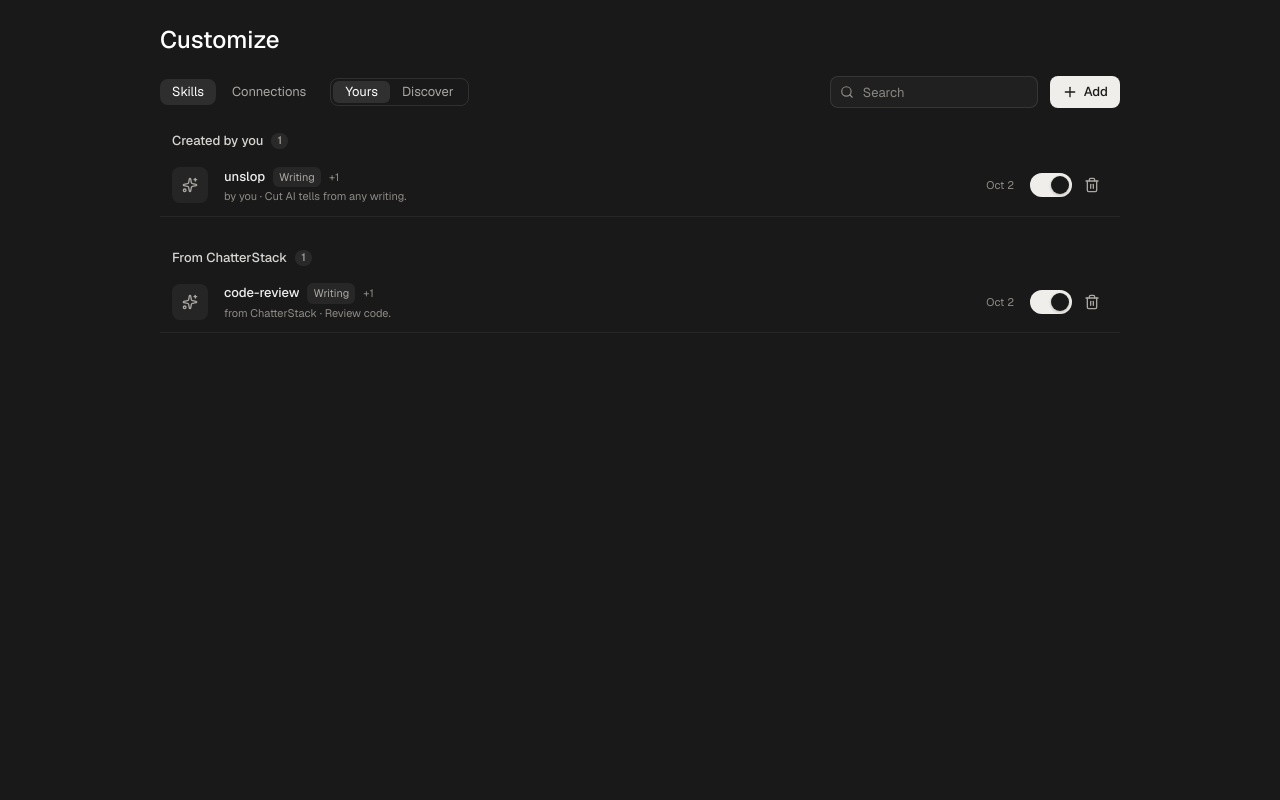
Customize → Skills → Yours › offers Upload skill, Create a skill and Create with AI
The width and height of the screenshot is (1280, 800).
Click the button with aria-label "Add skill".
click(1085, 92)  # box x1=1050 y1=76 x2=1120 y2=108
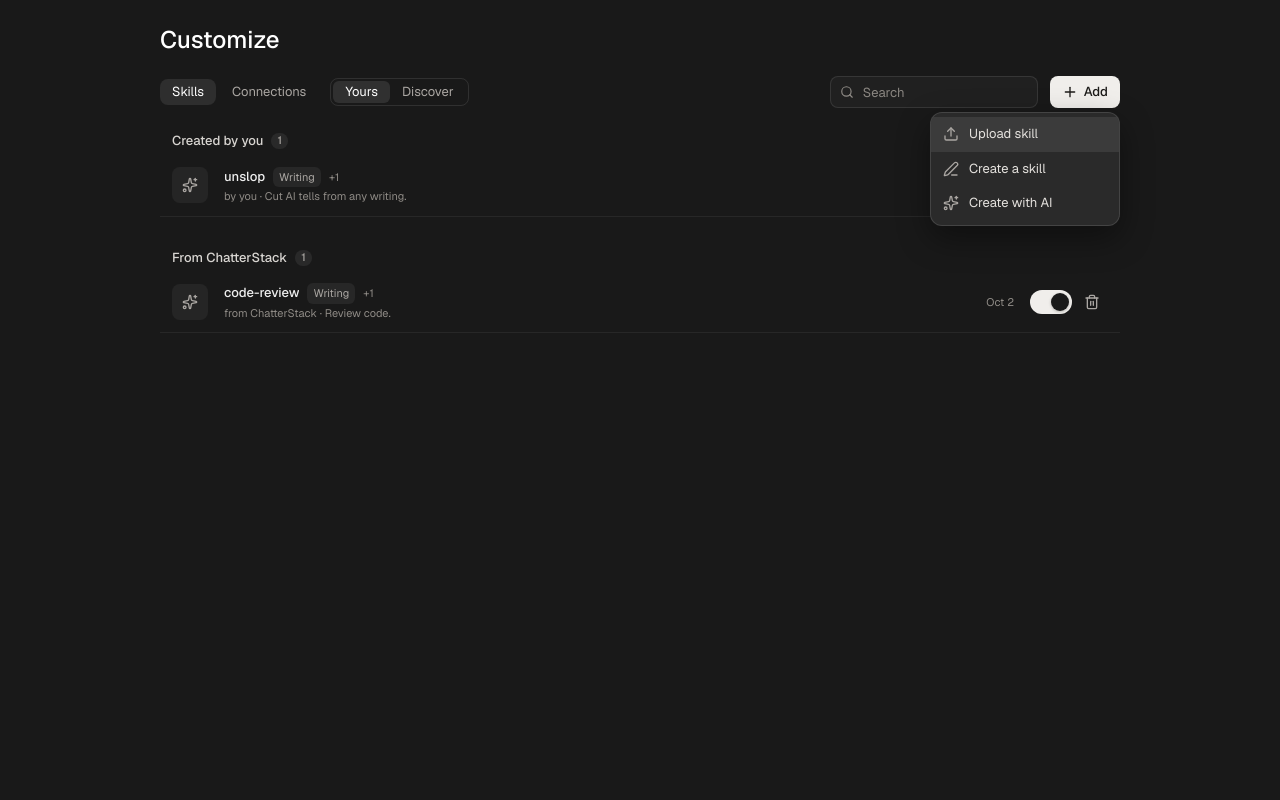
Check: the menu items read "Upload skill", "Create a skill", "Create with AI", in this order
Click the menu item "Upload skill".
click(1025, 134)  # box x1=931 y1=117 x2=1119 y2=152
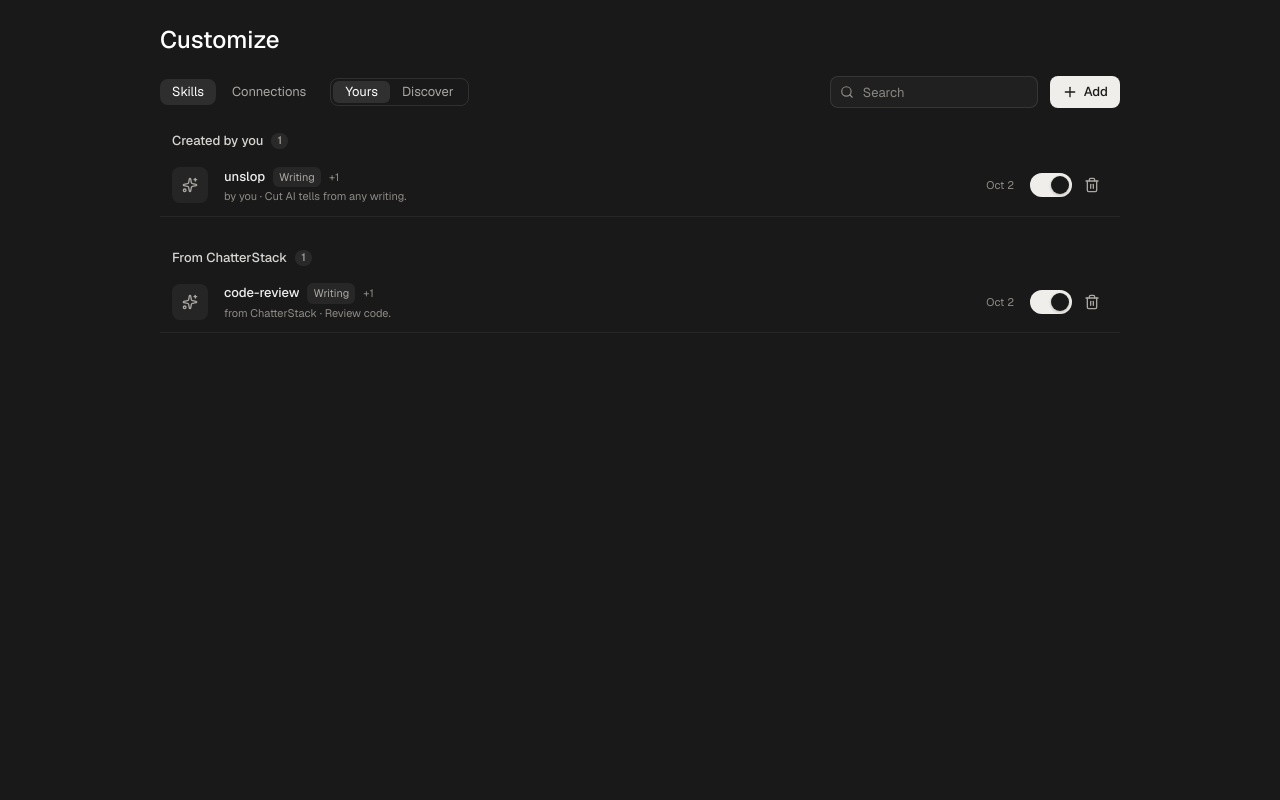
Click the button with aria-label "Add skill".
click(1085, 92)  # box x1=1050 y1=76 x2=1120 y2=108
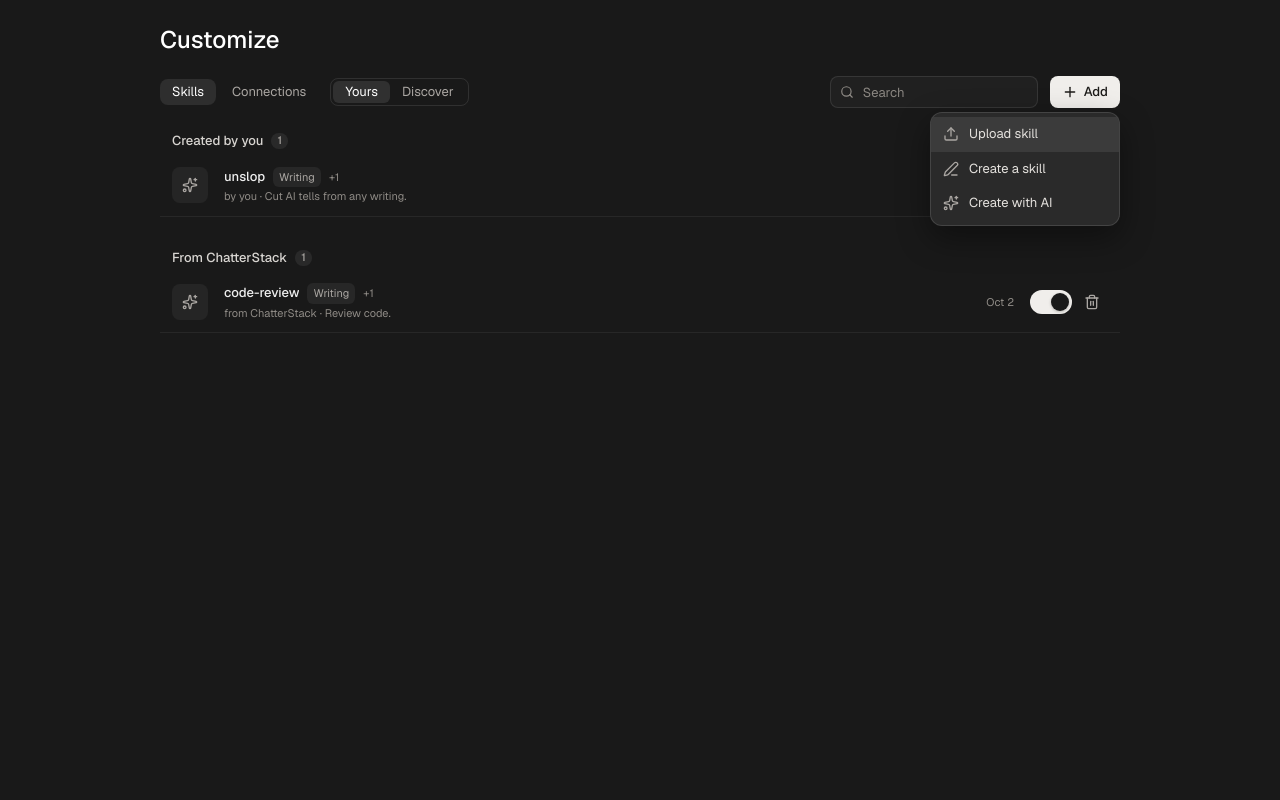
Click the menu item "Create a skill".
click(1025, 169)  # box x1=931 y1=152 x2=1119 y2=186
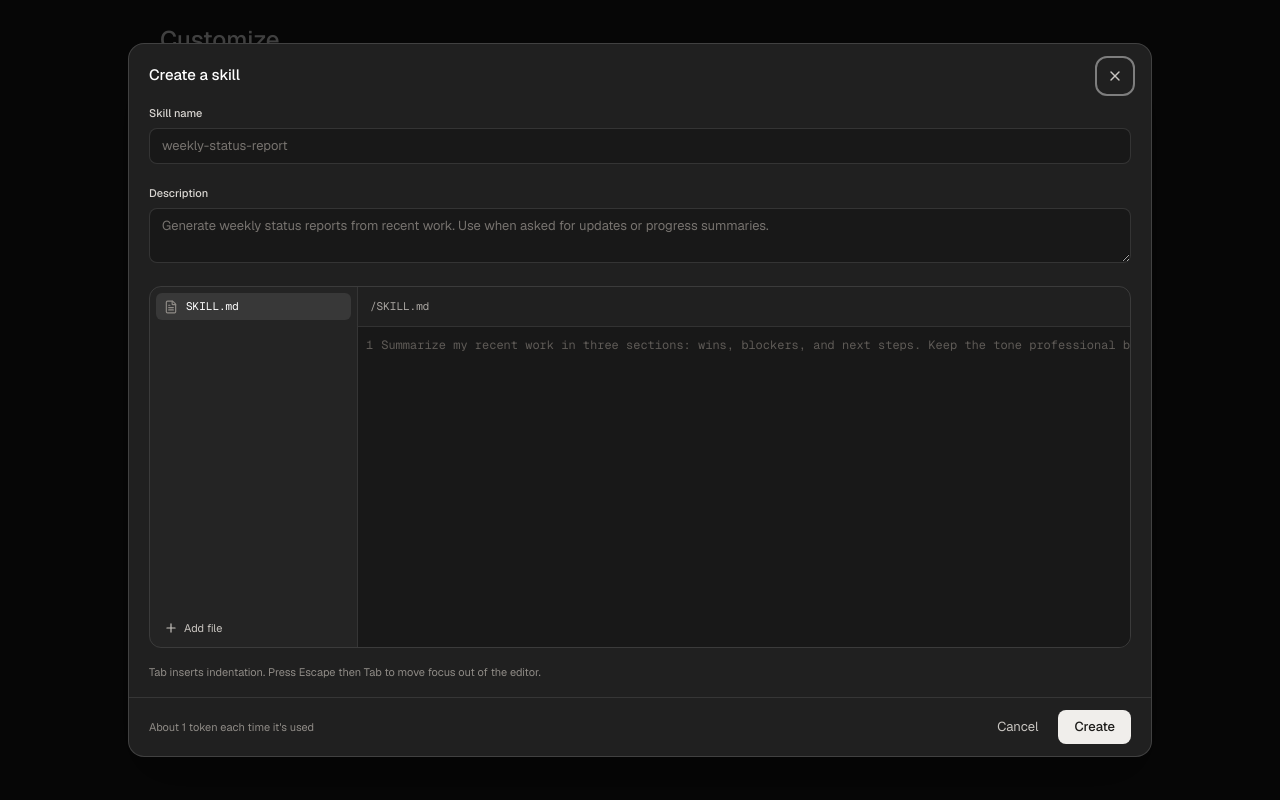
Check: the dialog "Create a skill" is shown
